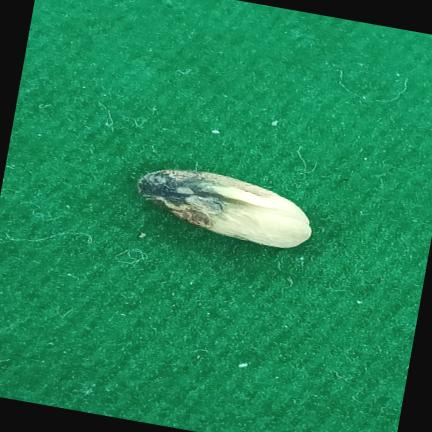partial-black: (138, 170, 311, 248)
